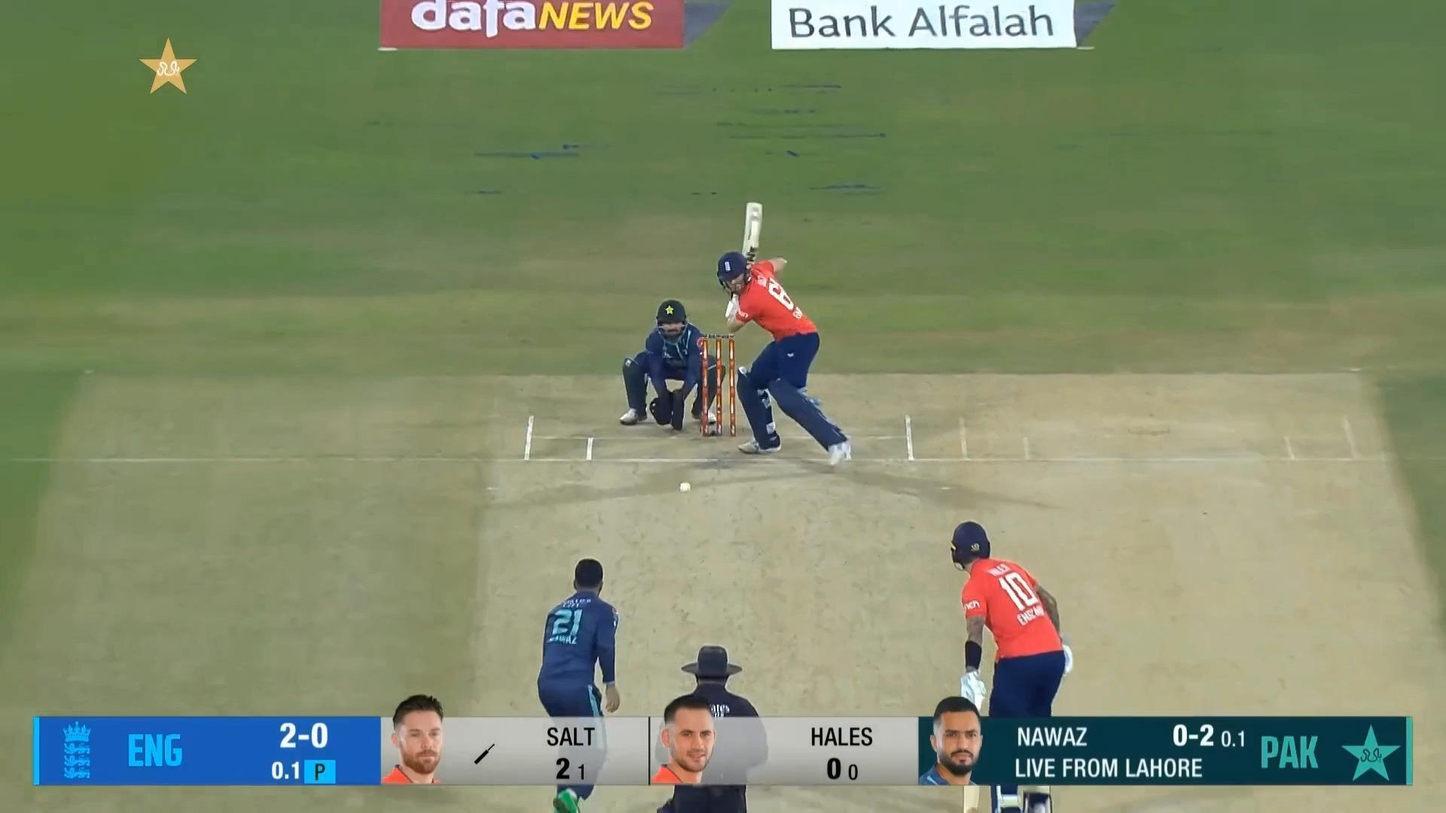BM 1: (717, 201, 855, 468)
BO: (535, 556, 622, 813)
